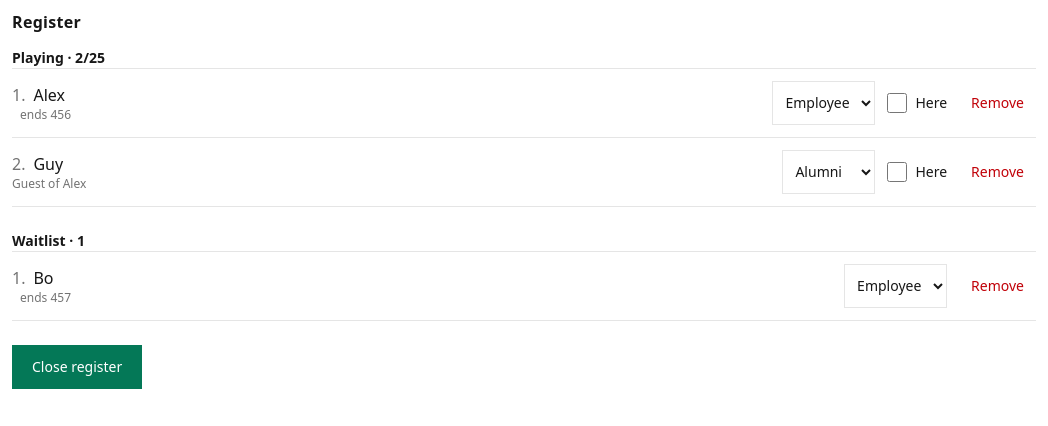
Test: Tier and Here › unticks again if the server refuses
Click the checkbox named "Here: Alex".
click(897, 103)  # box [887, 93, 907, 113]
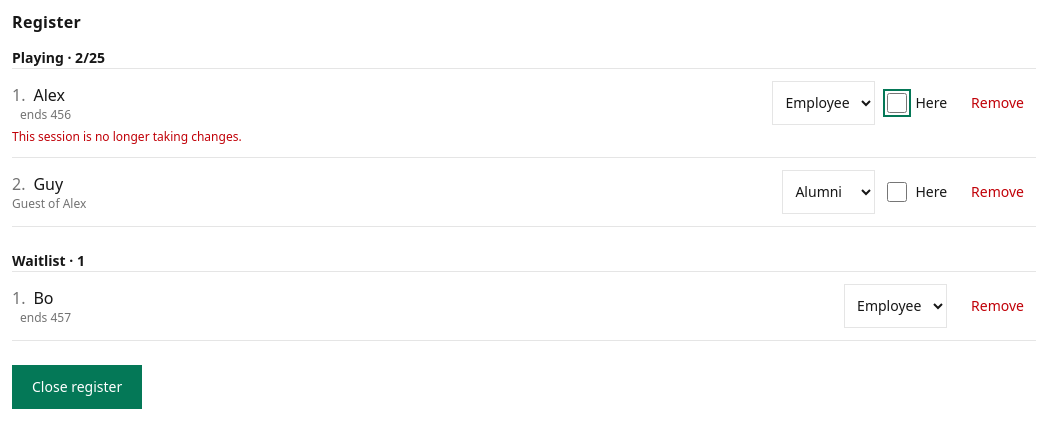
Expected: the message shows "no longer taking changes", [12, 128, 242, 145]
